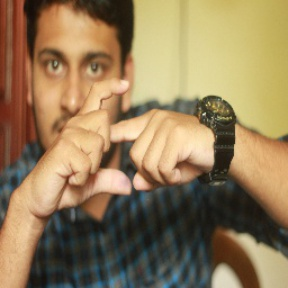E: (70, 76, 149, 198)
